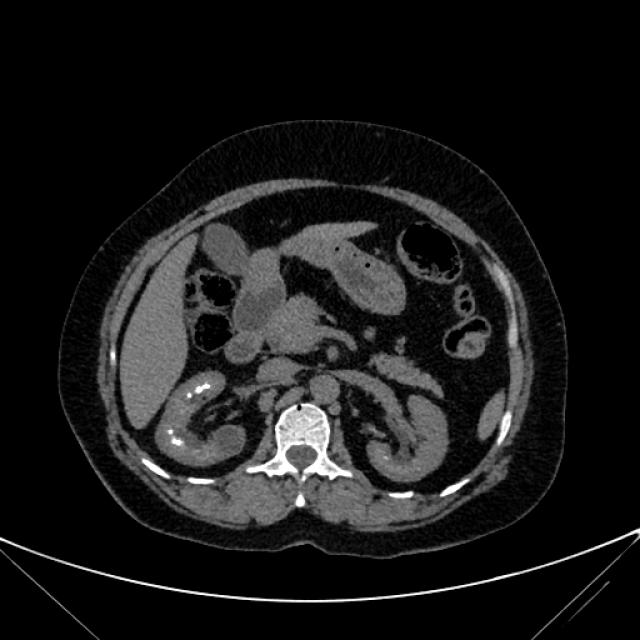kidney: (162, 378, 230, 462), (374, 404, 442, 480)
stone: (197, 384, 209, 394), (172, 440, 182, 446), (384, 456, 388, 460), (188, 394, 192, 398), (169, 430, 172, 434)
